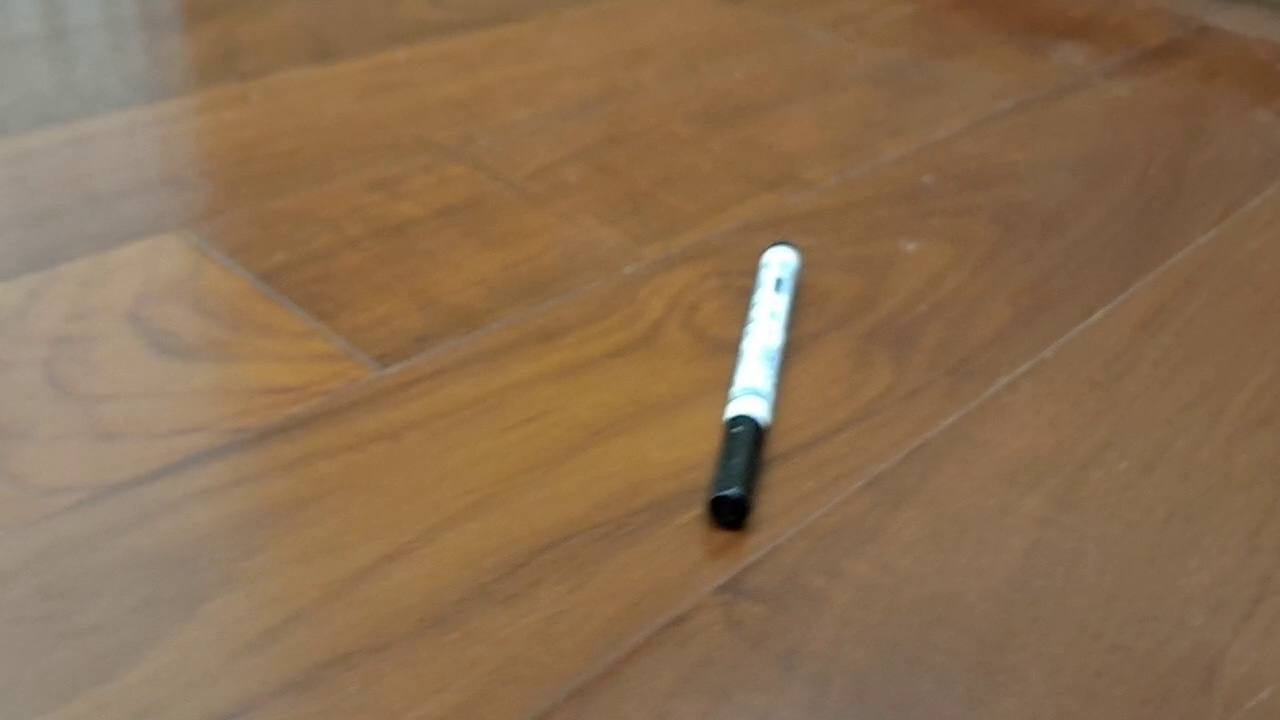pen: (708, 240, 803, 533)
